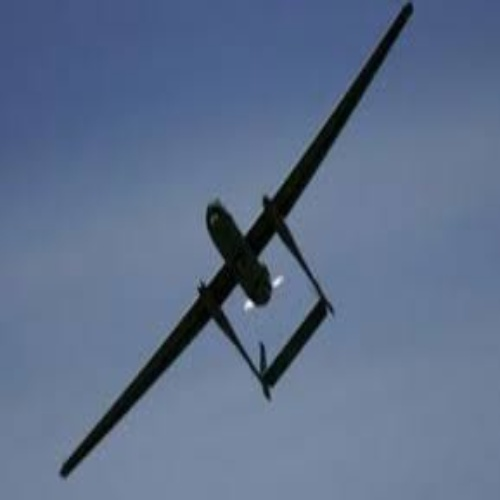uav343: (62, 1, 412, 482)
